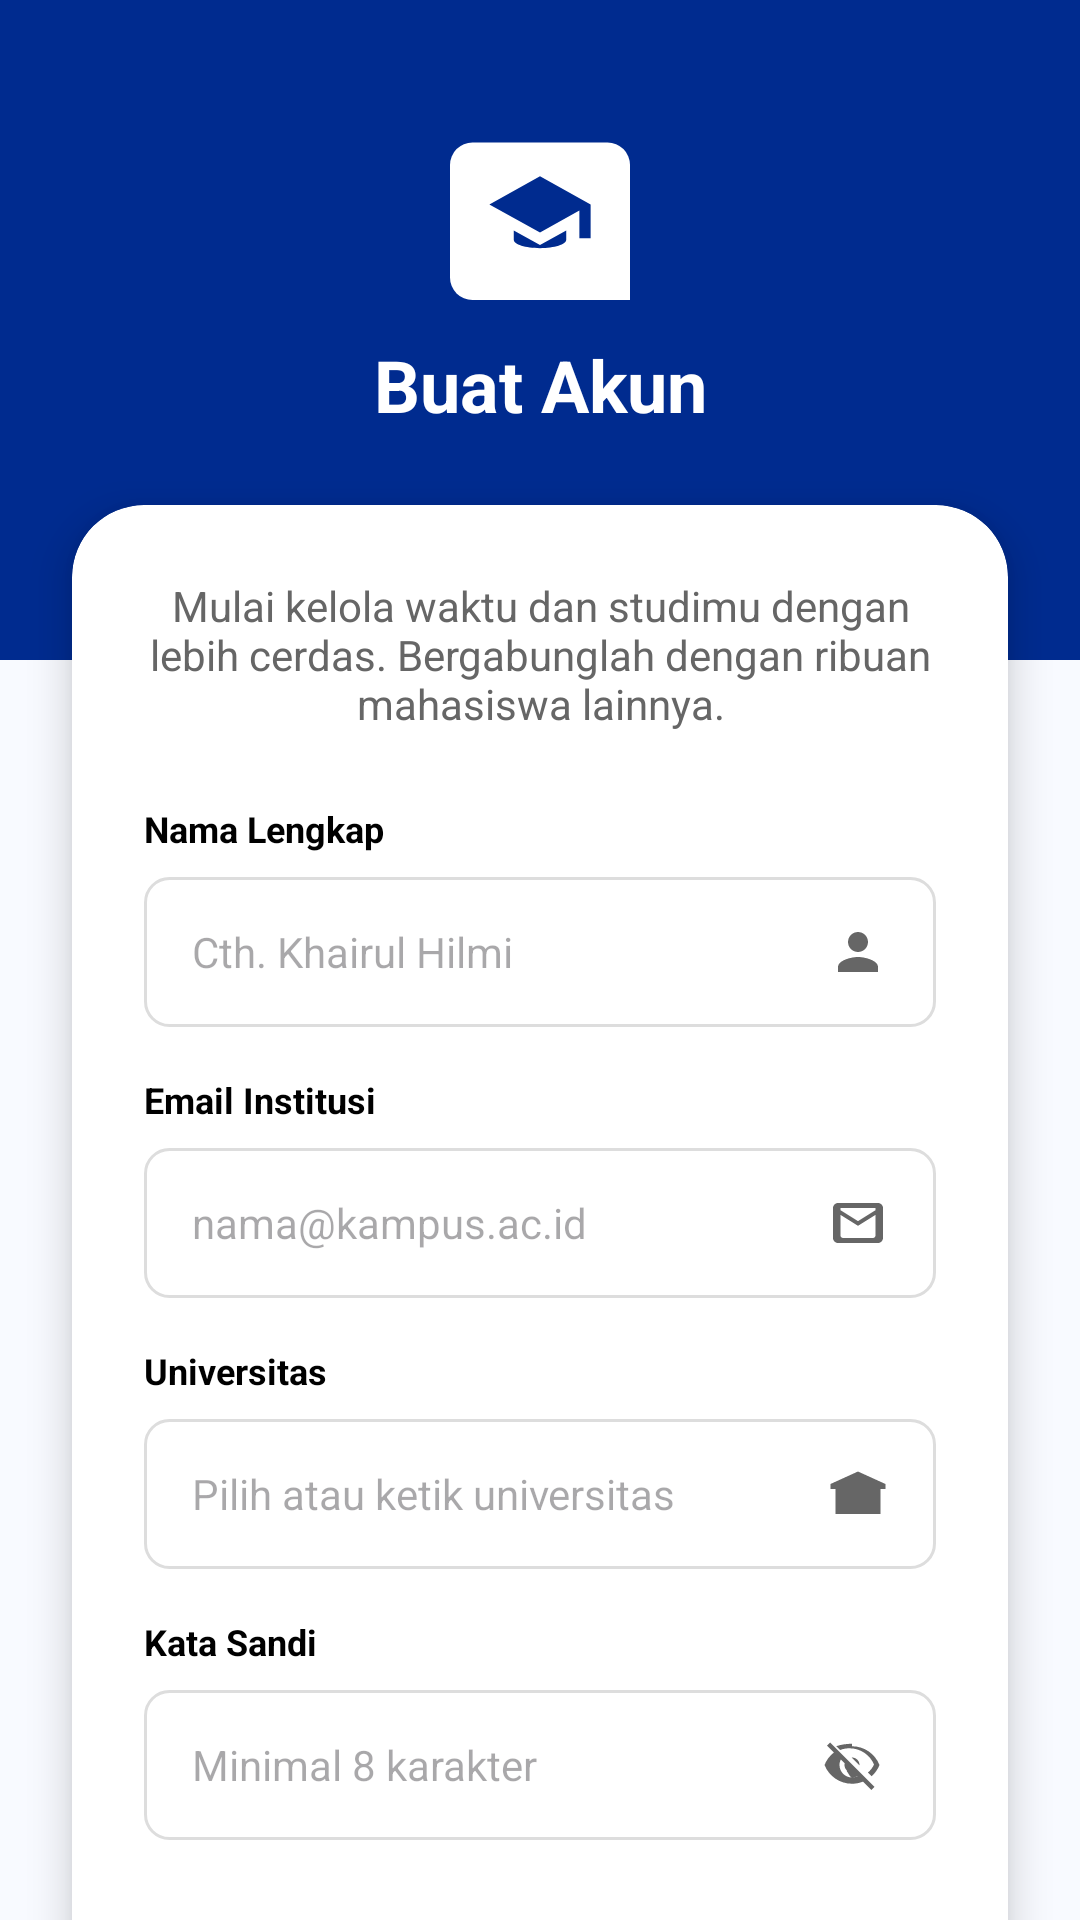

Screen size 1080x1920. Icon name, then its center in pixels as (x=x, y=y):
email: (x=858, y=1223)
person: (x=858, y=952)
visibility off: (x=852, y=1766)
